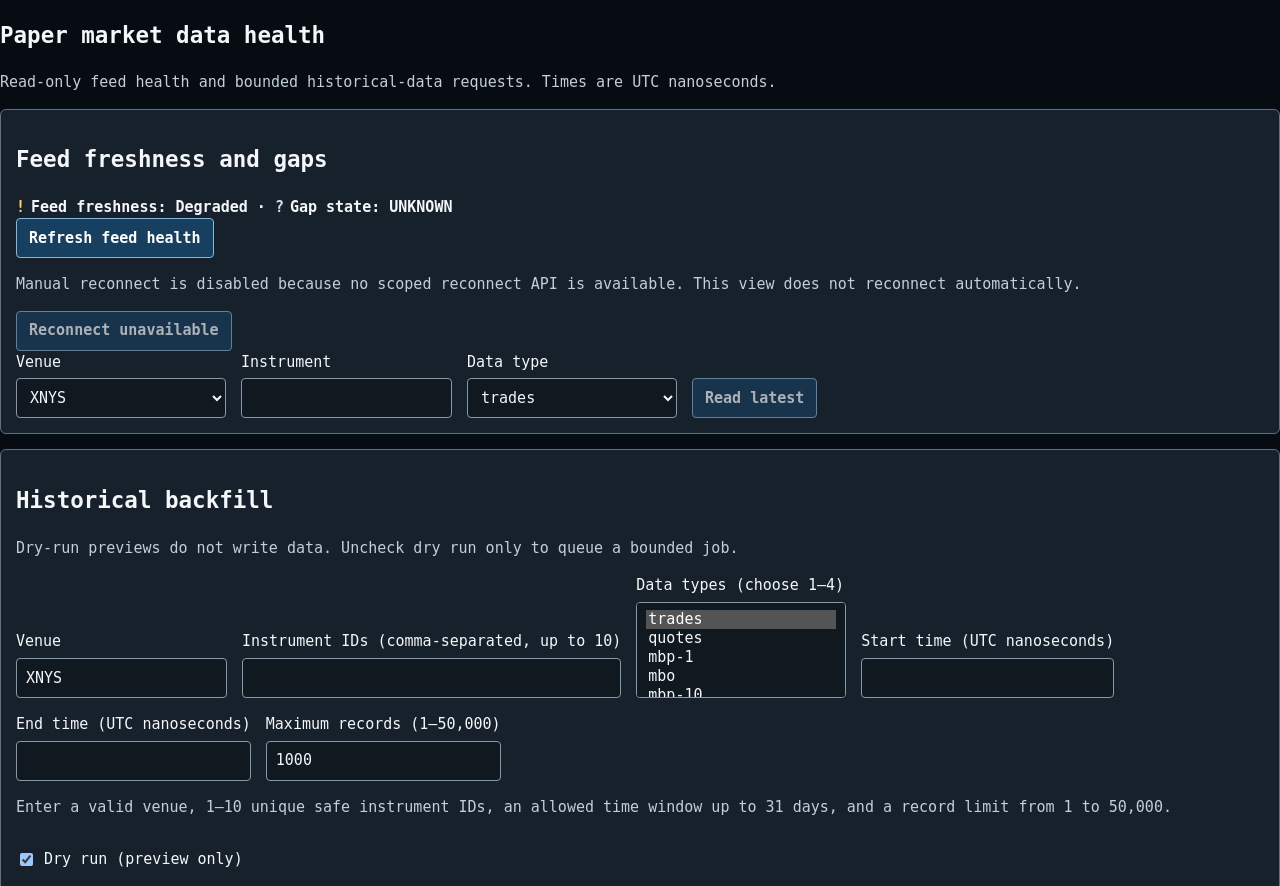
Test: PaperMarketDataHealthView › validates, submits a dry-run preview, and does not submit twice while pending
The width and height of the screenshot is (1280, 886).
Type "AAPL" into the field named "Backfill instruments". click: (432, 678)
box: x1=242 y1=658 x2=621 y2=698
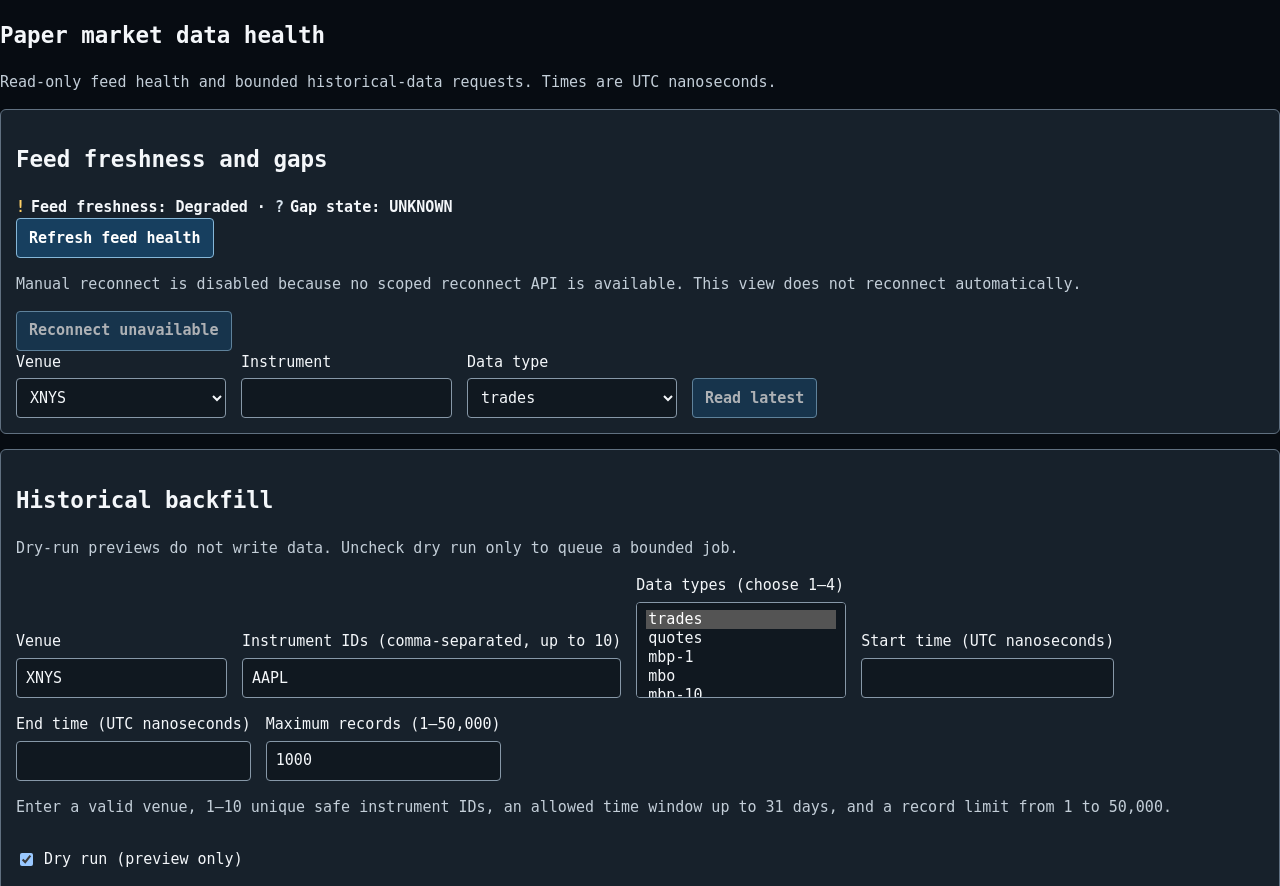
Type "1710000000000000001" into the field named "Backfill start time UTC nanoseconds". click: (988, 678)
box: x1=861 y1=658 x2=1114 y2=698
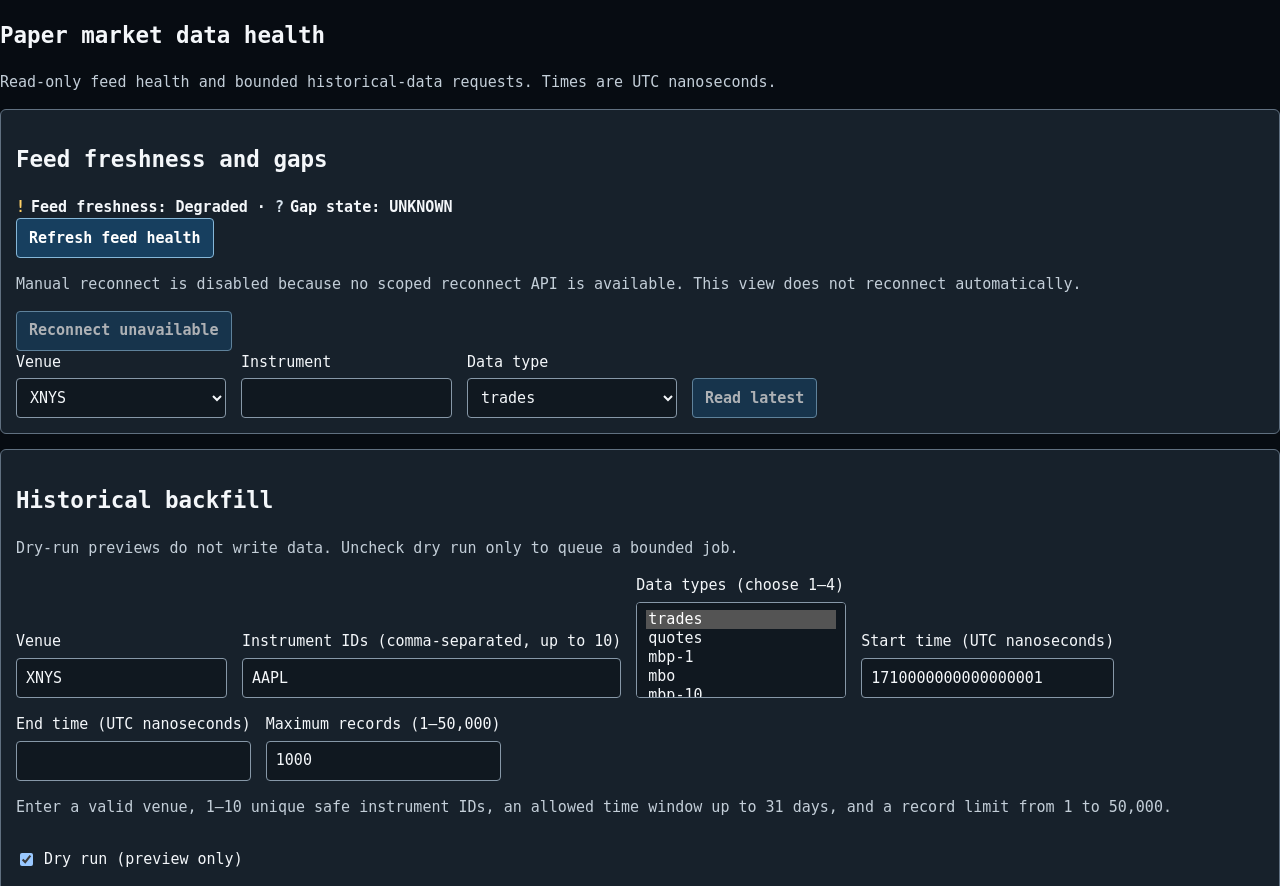
Type "1710000000000000999" into the field named "Backfill end time UTC nanoseconds". click: (133, 760)
box: x1=16 y1=740 x2=251 y2=780
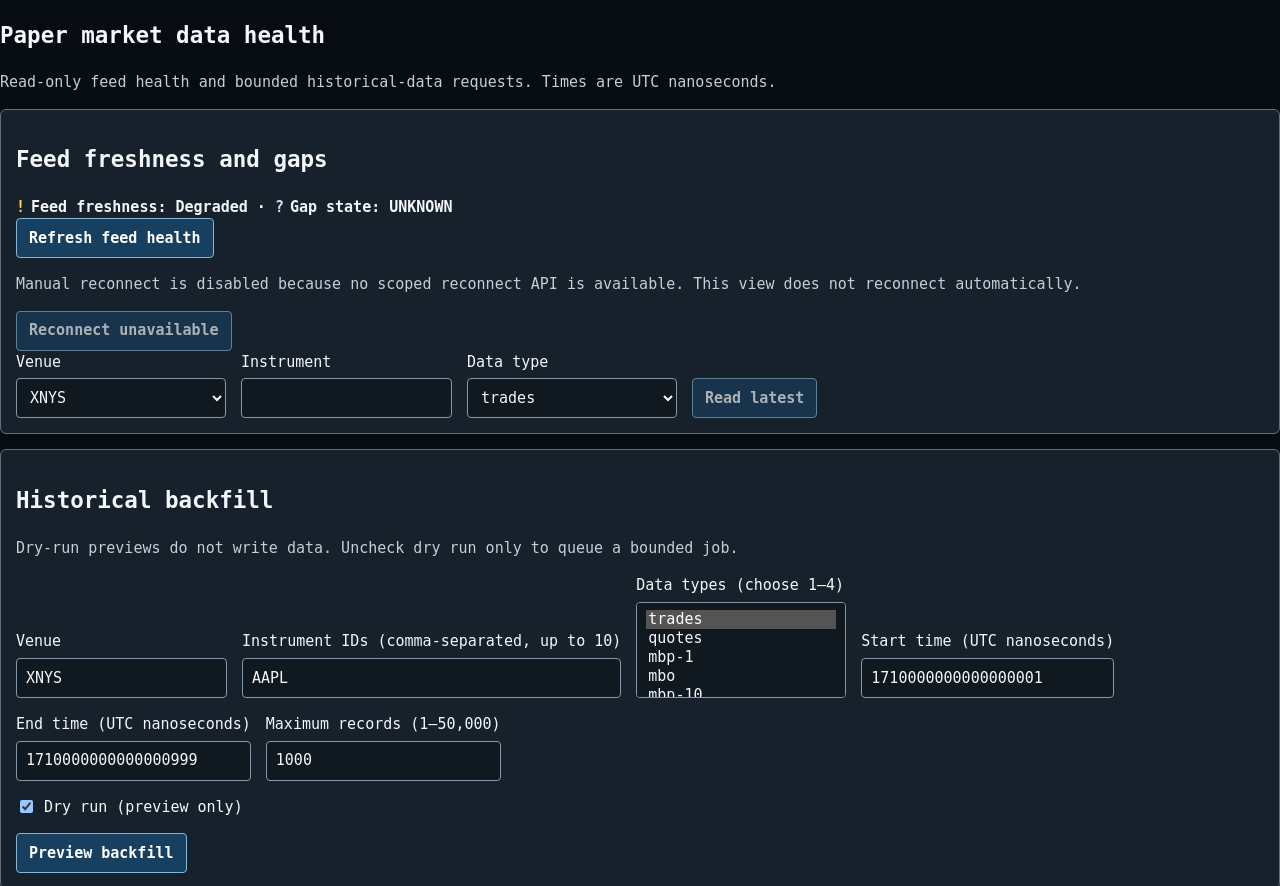
Submit the form named "Backfill request", box x1=16 y1=574 x2=1264 y2=873
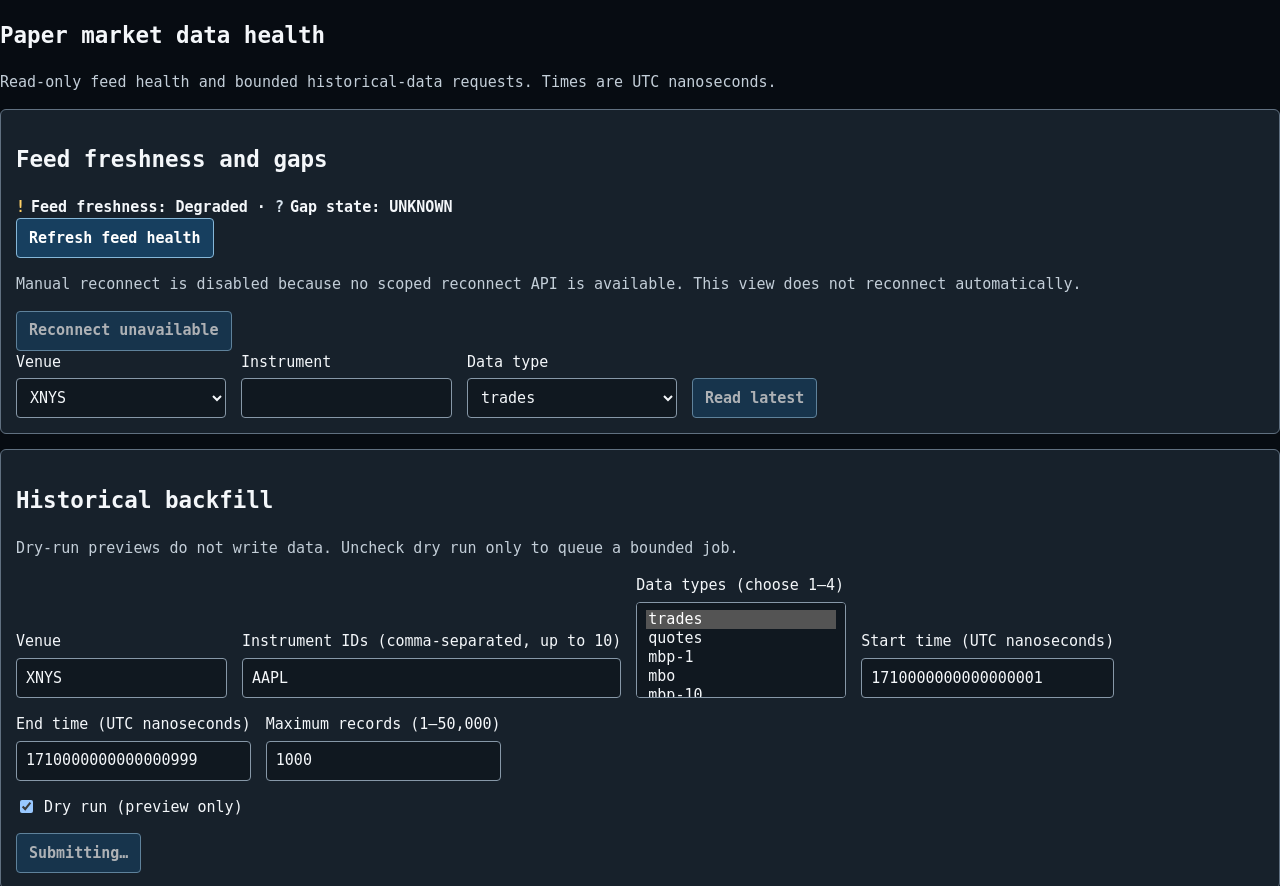
Submit the form named "Backfill request", box x1=16 y1=574 x2=1264 y2=873
(page scrolled)
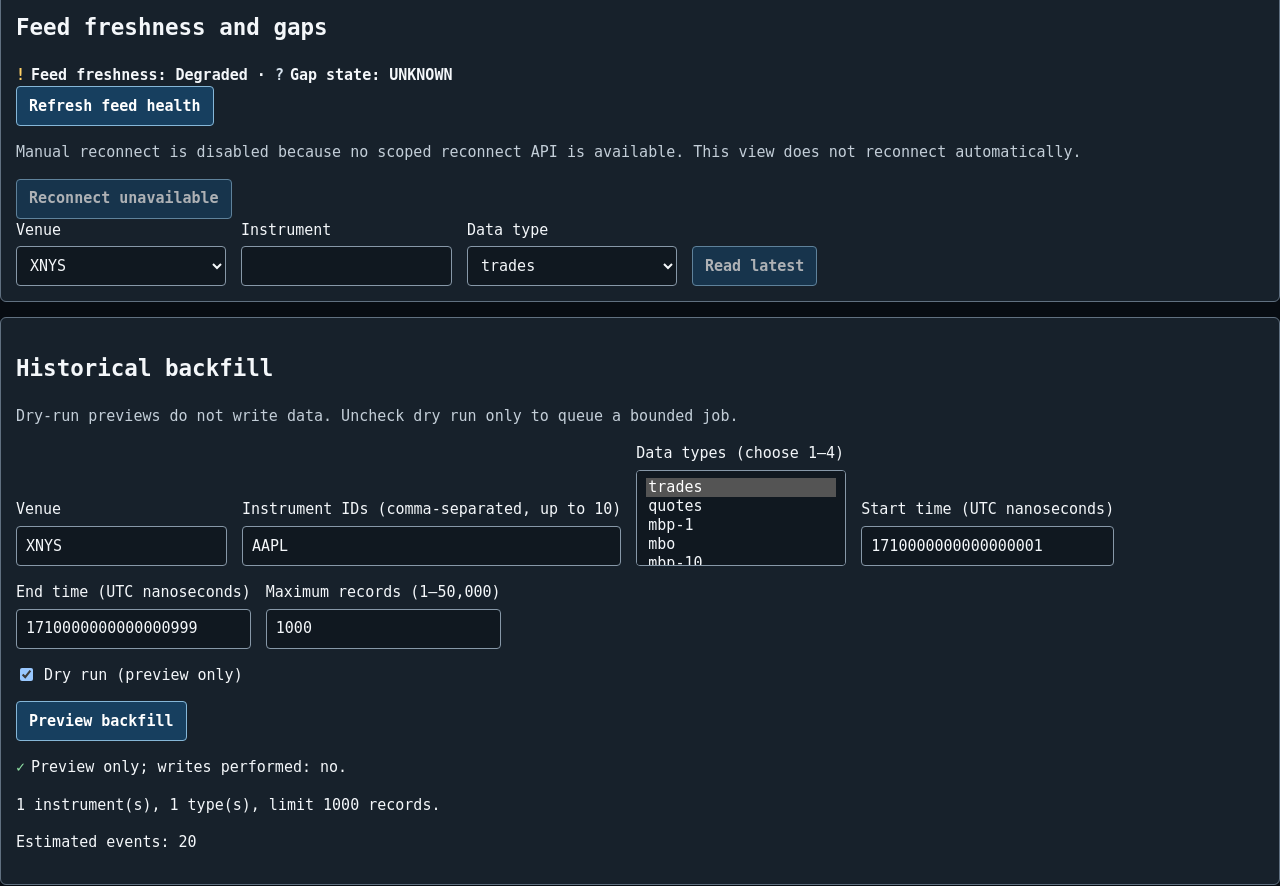
Result: the text "✓Preview only; writes performed: no." is shown at x1=16 y1=758 x2=347 y2=776
Result: the text "Estimated events: 20" is shown at x1=16 y1=833 x2=197 y2=851
